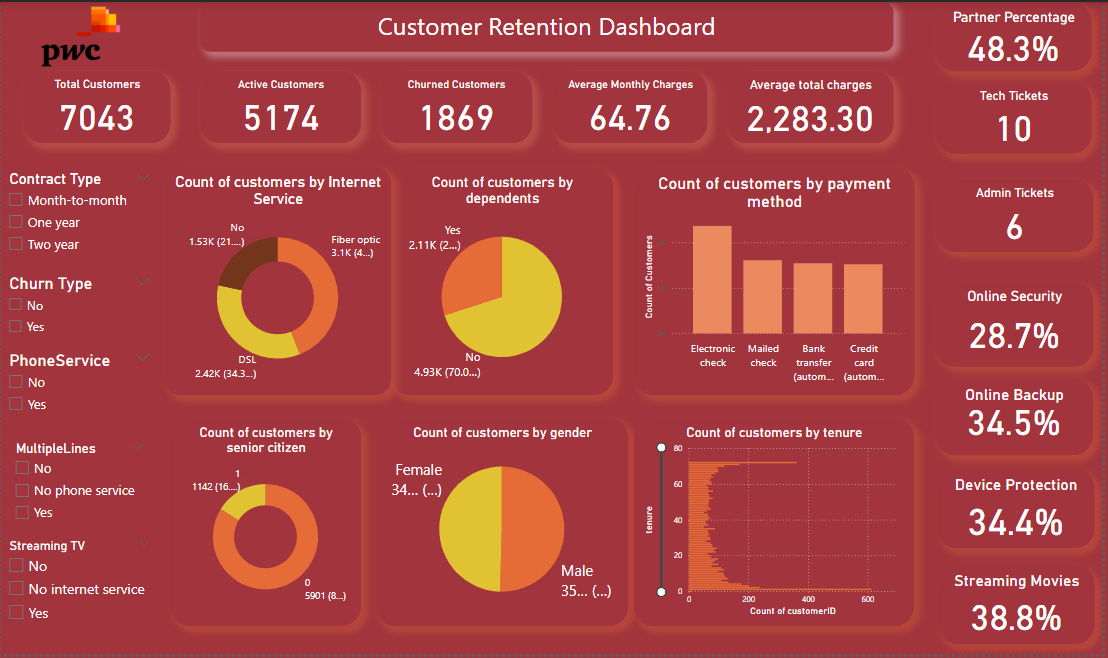

Layout of this report page (visuals, bound fields, positions):
{"tool":"powerbi","page":{"name":"Page 1","canvas":[1689,1000],"ordinal":0},"visuals":[{"type":"card","title":"Total Customers","fields":{"Values":["Count(01 Churn-Dataset.customerID)"]},"box":[34.5,105.8,225.5,110.4],"z":0},{"type":"card","title":"Active Customers","fields":{"Values":["01 Churn-Dataset.Active Customers"]},"box":[306,105.8,246.2,110.4],"z":1000},{"type":"card","title":"Churned Customers","fields":{"Values":["01 Churn-Dataset.Churned Customers"]},"box":[582.1,105.8,232.4,110.4],"z":2000},{"type":"pieChart","title":"Count of customers by gender","fields":{"Category":["01 Churn-Dataset.gender"],"Y":["Count(01 Churn-Dataset.customerID)"]},"box":[575.2,637.3,386.5,319.8],"z":3000},{"type":"donutChart","title":"Count of customers by senior citizen","fields":{"Category":["01 Churn-Dataset.SeniorCitizen"],"Y":["Count(01 Churn-Dataset.customerID)"]},"box":[260,637.3,292.2,319.8],"z":4000},{"type":"pieChart","title":"Count of customers by dependents","fields":{"Category":["01 Churn-Dataset.Dependents"],"Y":["Count(01 Churn-Dataset.customerID)"]},"box":[598.2,253.1,340.5,349.7],"z":5000},{"type":"clusteredColumnChart","title":"Count of customers by payment method","fields":{"Category":["01 Churn-Dataset.PaymentMethod"],"Y":["Count(01 Churn-Dataset.customerID)"]},"box":[970.9,253.1,430.2,349.7],"z":6000},{"type":"slicer","fields":{"Values":["01 Churn-Dataset.Contract"]},"box":[0,253.1,241.6,149.5],"z":7000},{"type":"slicer","fields":{"Values":["01 Churn-Dataset.Churn"]},"box":[0,411.8,241.6,117.3],"z":8000},{"type":"slicer","fields":{"Values":["01 Churn-Dataset.PhoneService"]},"box":[0,529.2,241.6,147.2],"z":9000},{"type":"donutChart","title":"Count of customers by Internet Service","fields":{"Category":["01 Churn-Dataset.InternetService"],"Y":["Count(01 Churn-Dataset.customerID)"]},"box":[250.8,253.1,347.4,349.7],"z":10000},{"type":"card","title":"Average Monthly Charges","fields":{"Values":["Avg(01 Churn-Dataset.MonthlyCharges)"]},"box":[846.6,105.8,237,110.4],"z":11000},{"type":"card","title":"Average total charges","fields":{"Values":["Avg(01 Churn-Dataset.TotalCharges)"]},"box":[1113.5,105.8,255.4,110.4],"z":12000},{"type":"textbox","box":[306,0,1062.9,75.9],"z":13000},{"type":"card","title":"Tech Tickets","fields":{"Values":["Count(01 Churn-Dataset.numTechTickets)"]},"box":[1433.3,121.9,239.3,110.4],"z":14000},{"type":"card","title":"Admin Tickets","fields":{"Values":["Count(01 Churn-Dataset.numAdminTickets)"]},"box":[1432.6,270.6,242.1,111.1],"z":15000},{"type":"clusteredBarChart","title":"Count of customers by tenure","fields":{"Category":["01 Churn-Dataset.tenure"],"Y":["Count(01 Churn-Dataset.customerID)"]},"box":[971,637,429,320],"z":16000},{"type":"slicer","fields":{"Values":["01 Churn-Dataset.MultipleLines"]},"box":[0,657.9,242.1,159.5],"z":17000},{"type":"card","title":"Online Security","fields":{"Values":["01 Churn-Dataset.OnlineSecurity_Percentage"]},"box":[1432.6,427.2,242.1,131],"z":18000},{"type":"card","title":"Online Backup","fields":{"Values":["01 Churn-Dataset.OnlineBackup_Percentage"]},"box":[1433.3,577.5,241.6,117.3],"z":19000},{"type":"card","title":"Device Protection","fields":{"Values":["01 Churn-Dataset.DeviceProtection_Percentage"]},"box":[1435.6,715.5,241.6,121.9],"z":20000},{"type":"slicer","fields":{"Values":["01 Churn-Dataset.StreamingTV"]},"box":[0,817,242,150],"z":21000},{"type":"card","title":"Streaming Movies","fields":{"Values":["01 Churn-Dataset.StreamingMovies_Percentage"]},"box":[1437.9,862.8,239.3,121.9],"z":22000},{"type":"image","box":[34.5,0,174.9,105.8],"z":23000},{"type":"card","title":"Partner Percentage","fields":{"Values":["01 Churn-Dataset.Partner Percentage"]},"box":[1433.3,0,239.3,105.8],"z":24000}]}

Visuals, with their boxes in screenshot pixels (x1, y1, x2, y2), scaled from the page's 1689x1000 canvas onto the 1108x658 screenshot:
"Total Customers" card: x1=23, y1=70, x2=171, y2=142
"Active Customers" card: x1=201, y1=70, x2=362, y2=142
"Churned Customers" card: x1=382, y1=70, x2=534, y2=142
"Count of customers by gender" pieChart: x1=377, y1=419, x2=631, y2=630
"Count of customers by senior citizen" donutChart: x1=171, y1=419, x2=362, y2=630
"Count of customers by dependents" pieChart: x1=392, y1=167, x2=616, y2=397
"Count of customers by payment method" clusteredColumnChart: x1=637, y1=167, x2=919, y2=397
slicer - 01 Churn-Dataset.Contract: x1=0, y1=167, x2=158, y2=265
slicer - 01 Churn-Dataset.Churn: x1=0, y1=271, x2=158, y2=348
slicer - 01 Churn-Dataset.PhoneService: x1=0, y1=348, x2=158, y2=445
"Count of customers by Internet Service" donutChart: x1=165, y1=167, x2=392, y2=397
"Average Monthly Charges" card: x1=555, y1=70, x2=711, y2=142
"Average total charges" card: x1=730, y1=70, x2=898, y2=142
textbox: x1=201, y1=0, x2=898, y2=50
"Tech Tickets" card: x1=940, y1=80, x2=1097, y2=153
"Admin Tickets" card: x1=940, y1=178, x2=1099, y2=251
"Count of customers by tenure" clusteredBarChart: x1=637, y1=419, x2=918, y2=630
slicer - 01 Churn-Dataset.MultipleLines: x1=0, y1=433, x2=159, y2=538
"Online Security" card: x1=940, y1=281, x2=1099, y2=367
"Online Backup" card: x1=940, y1=380, x2=1099, y2=457
"Device Protection" card: x1=942, y1=471, x2=1100, y2=551
slicer - 01 Churn-Dataset.StreamingTV: x1=0, y1=538, x2=159, y2=636
"Streaming Movies" card: x1=943, y1=568, x2=1100, y2=648
image: x1=23, y1=0, x2=137, y2=70
"Partner Percentage" card: x1=940, y1=0, x2=1097, y2=70
